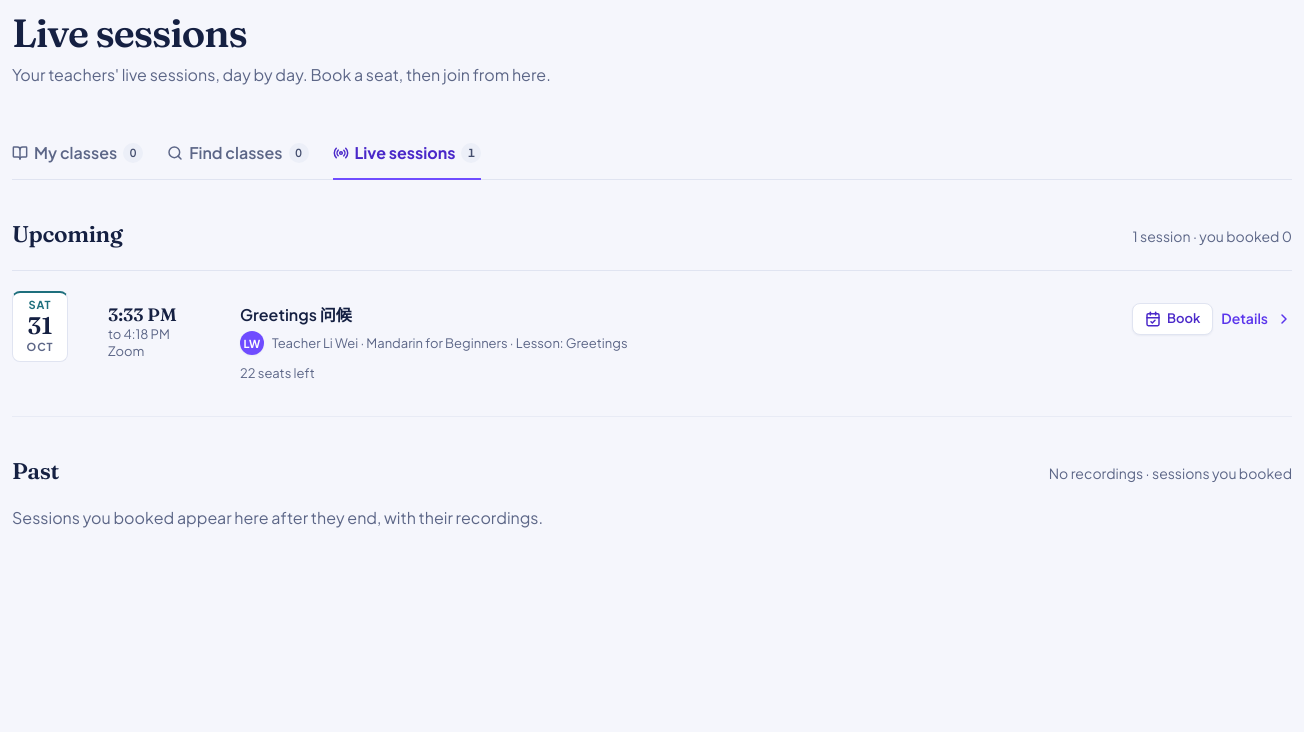
Test: StudentLiveSessionsPage › books a seat and confirms it
The image size is (1304, 732).
Click the button "Book". click: (1173, 319)
box: [1132,303,1213,335]
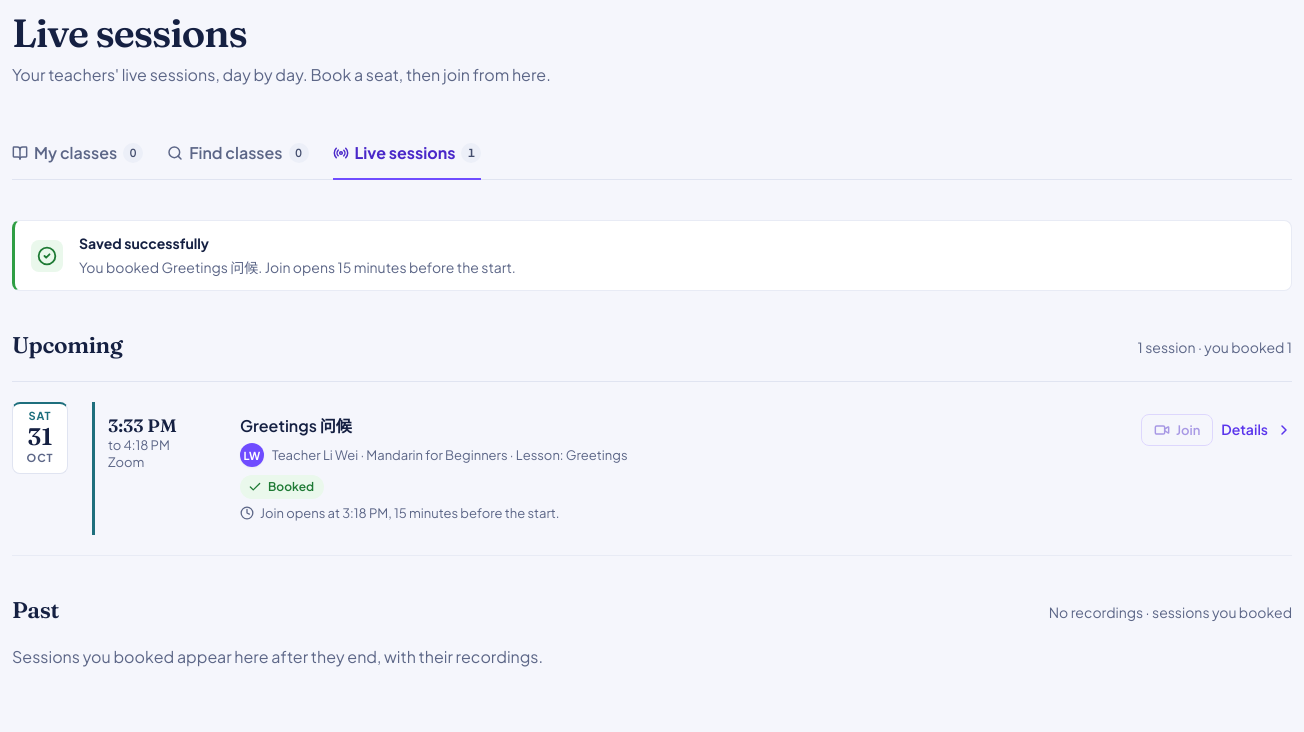
Expected: the text "booked" is shown, [79,258,516,276]
Expected: the text "You booked Greetings 问候." is shown, [79,258,516,276]
Expected: the text "15 minutes before the start" is shown, [79,258,516,276]
